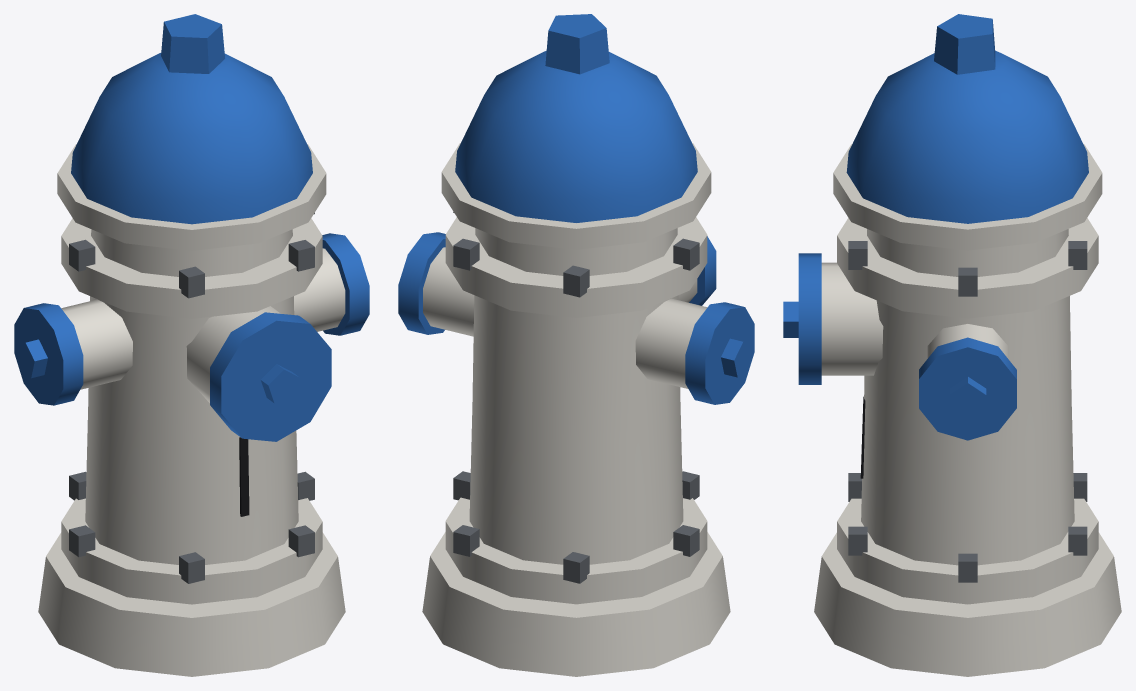
The model's file is fire_hydrant.glb.
The picture shows the model from 3 angles, left to right: view 1: azimuth 30°, elevation 25°; view 2: azimuth 150°, elevation 25°; view 3: azimuth 270°, elevation 25°; orthographic projection.
Visible parts, largest first — view 1: hydrant; view 2: hydrant; view 3: hydrant.
Boxes of the visible parts, left/top/right/bottom form: hydrant: left=14, top=14, right=369, bottom=676; hydrant: left=398, top=14, right=754, bottom=676; hydrant: left=783, top=14, right=1121, bottom=676.
Bounding box in the file's own units: 0.5 × 0.84 × 0.4401.
